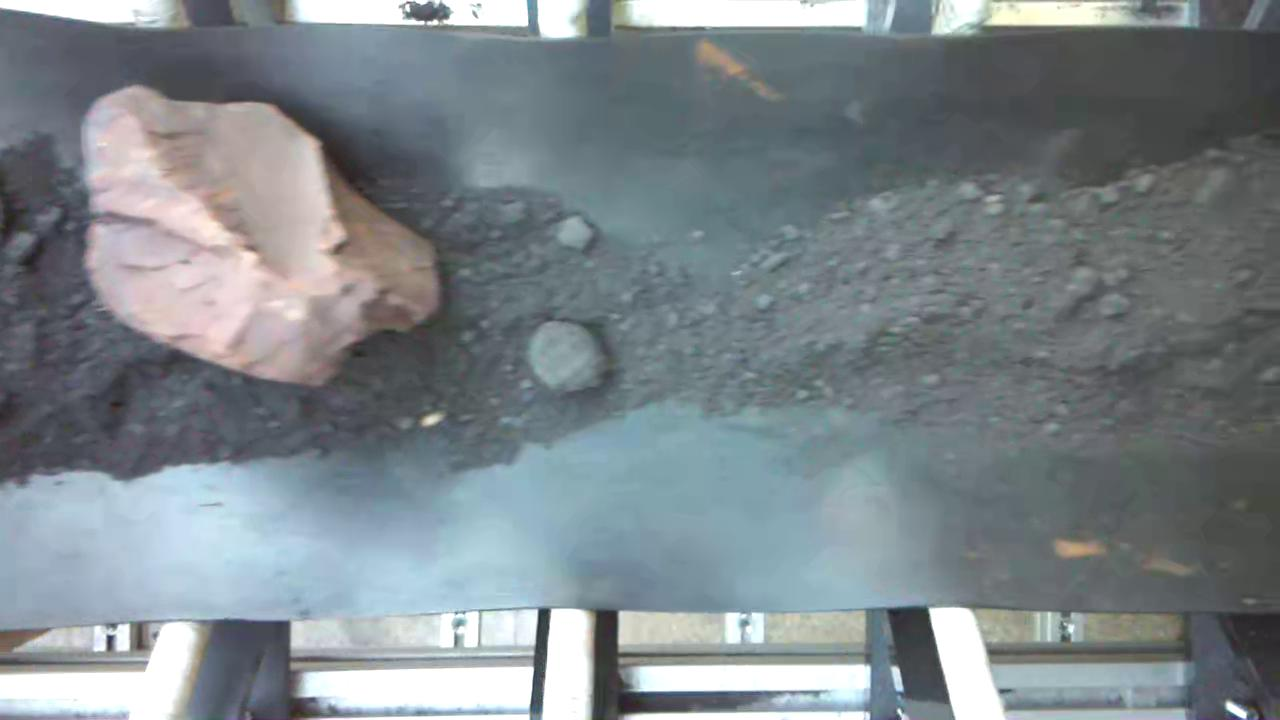conveyor: (3, 42, 1280, 598)
